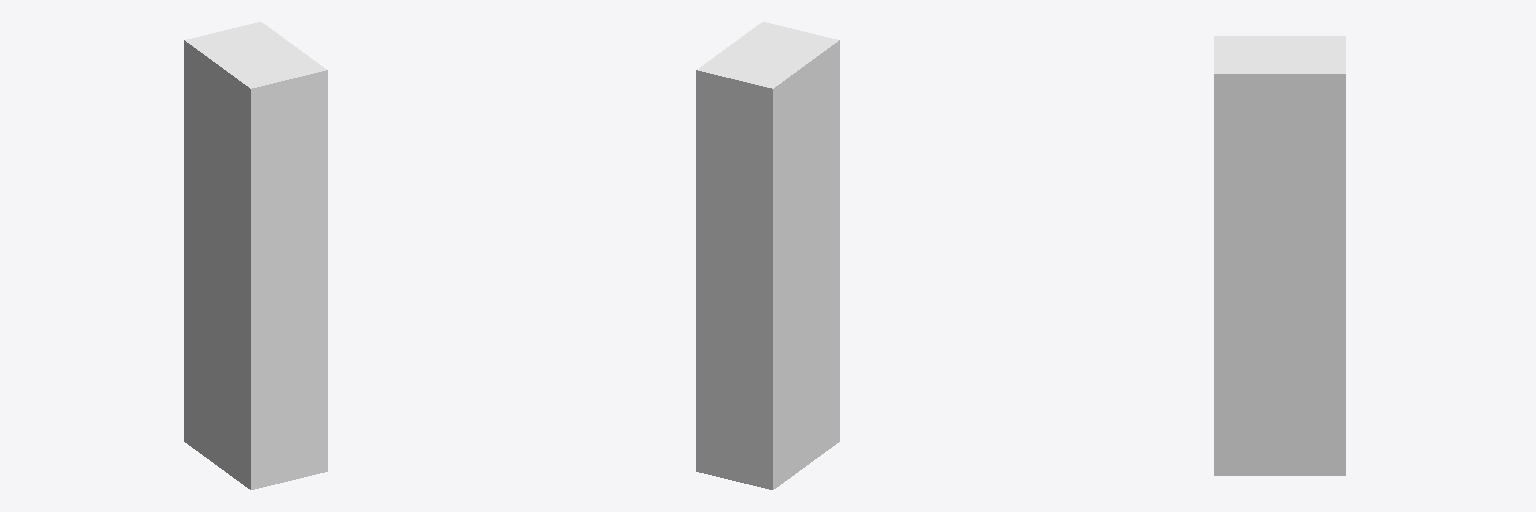
File: afterleft.obj
3 renders of one model, left to right at view 1: azimuth 30°, elevation 25°; view 2: azimuth 150°, elevation 25°; view 3: azimuth 270°, elevation 25°, orthographic.
Bounding box in the file's own units: 2 × 10 × 3.